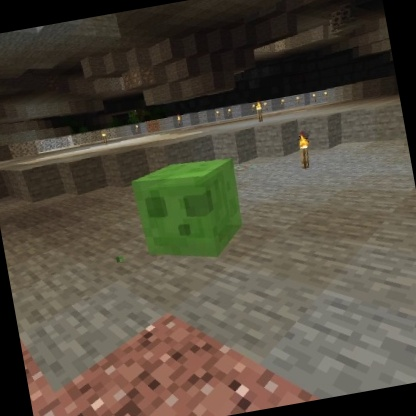slime: (125, 148, 253, 273)
